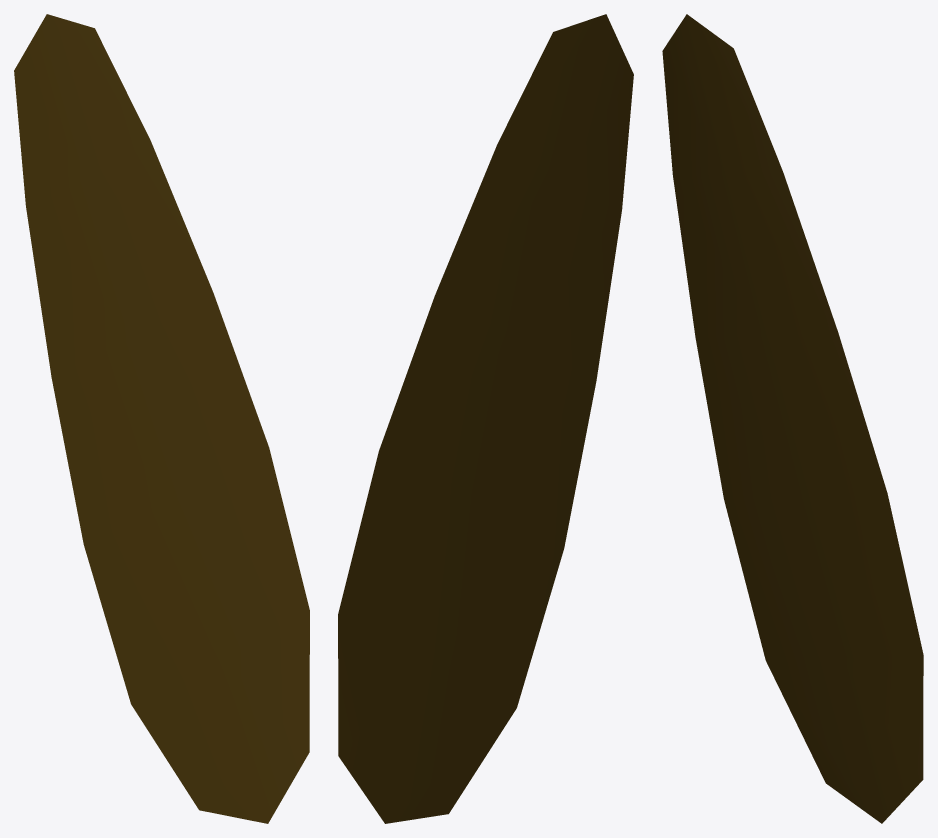
File: canary_feather_flight_primary_009.obj
3 views of the same model, side by side, from view 1: azimuth 30°, elevation 25°; view 2: azimuth 150°, elevation 25°; view 3: azimuth 330°, elevation 25° (orthographic). The views are drawn at different scales.
Parts seen in each view (by area): view 1: feather_flight_primary_009; view 2: feather_flight_primary_009; view 3: feather_flight_primary_009.
Part boxes in pixels (x1=…): feather_flight_primary_009: x1=14, y1=14, x2=309, y2=823; feather_flight_primary_009: x1=338, y1=14, x2=633, y2=823; feather_flight_primary_009: x1=662, y1=14, x2=923, y2=823.
Size of the model in its own units: 0.0102 by 0.0283 by 0.000155.
